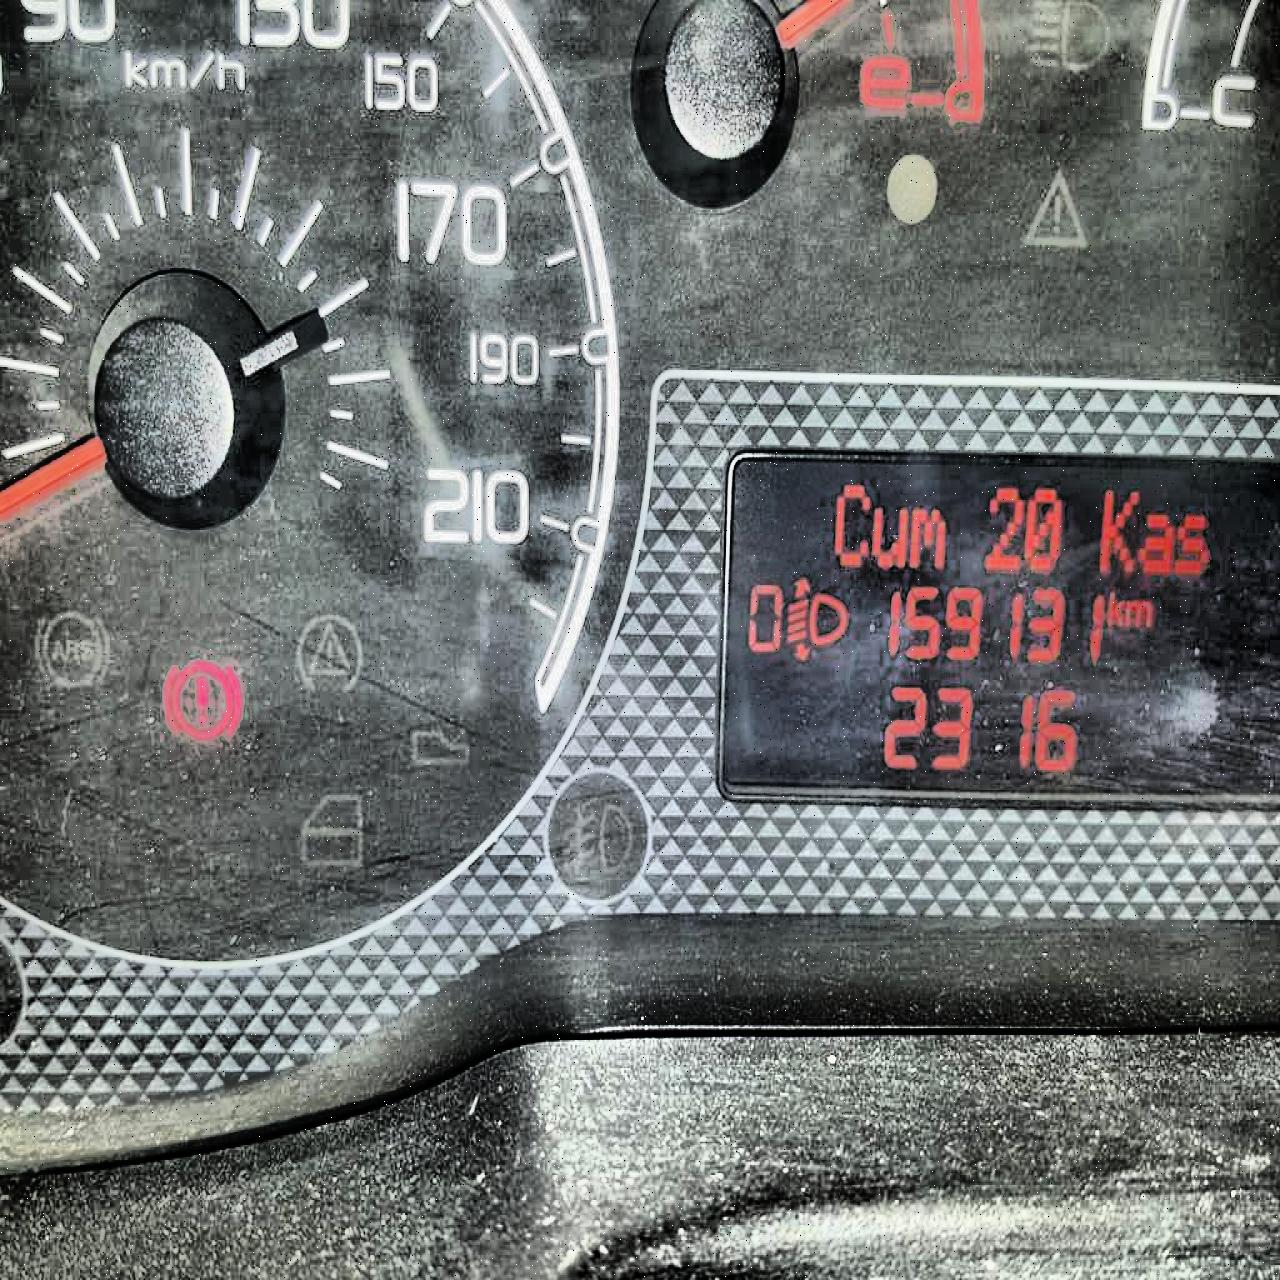0: (1023, 485, 1062, 570), (747, 580, 784, 653)
1: (883, 586, 903, 656), (1085, 593, 1104, 660), (1016, 693, 1033, 767), (1006, 593, 1023, 659)
2: (881, 686, 926, 767), (982, 485, 1022, 572)
3: (930, 687, 971, 770), (1024, 586, 1064, 661)
5: (904, 584, 940, 656)
6: (1035, 688, 1077, 771)
9: (944, 585, 981, 659)
X: (1096, 486, 1141, 572), (831, 482, 872, 566), (1136, 510, 1173, 573), (907, 505, 945, 568), (871, 503, 906, 570), (1175, 512, 1211, 576), (1123, 599, 1152, 628), (1107, 590, 1123, 628)
odometer: (710, 442, 1276, 821)
